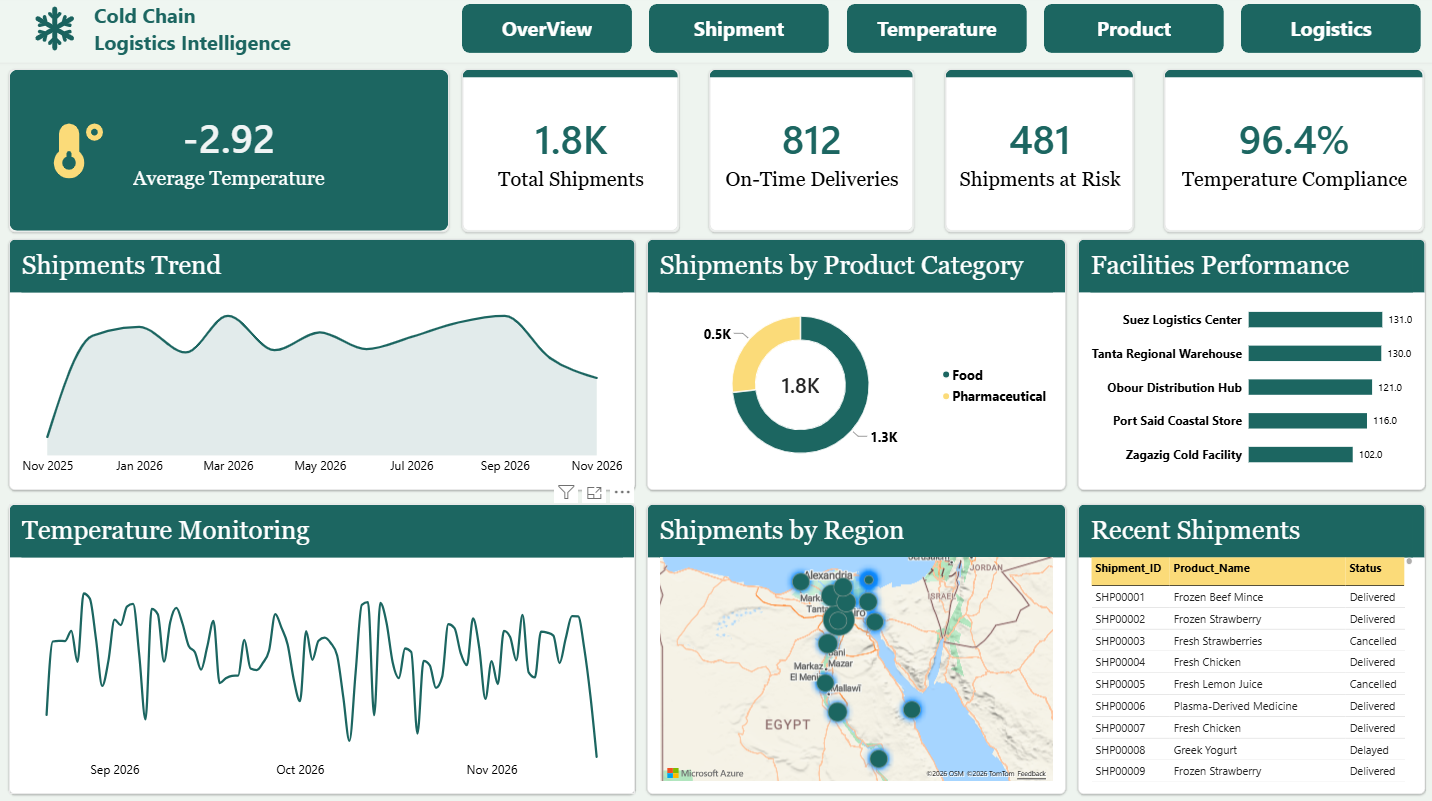

The dashboard page shown, as its layout file describes it:
{"tool":"powerbi","page":{"name":"OverView","canvas":[1920,1080],"ordinal":0},"visuals":[{"type":"cardVisual","fields":{"Data":["_Measures.On-Time Deliveries"]},"box":[951,98.4,272.7,216.8],"z":0},{"type":"cardVisual","fields":{"Data":["_Measures.Temperature Compliance"]},"box":[1556.2,98.4,345.8,216.8],"z":1000},{"type":"cardVisual","fields":{"Data":["_Measures.Shipments at Risk"]},"box":[1264.9,98.4,251.4,216.8],"z":2000},{"type":"cardVisual","fields":{"Data":["_Measures.Total Shipments"]},"box":[622.5,98.4,288.6,216.8],"z":3000},{"type":"lineChart","title":"Shipments Trend","fields":{"Category":["vw_Shipment_Overview.Shipment_Month"],"Y":["_Measures.Total Shipments"]},"box":[20,324.5,832.6,333.8],"z":4000},{"type":"donutChart","title":"Shipments by Product Category","fields":{"Category":["vw_Shipment_Overview.Product_Category"],"Y":["_Measures.Total Shipments"]},"box":[868.5,324.5,557.3,333.8],"z":5000},{"type":"clusteredBarChart","title":"Facilities Performance","fields":{"Category":["vw_Shipment_Overview.Origin_Facility"],"Y":["_Measures.Total Shipments"]},"box":[1441.8,324.5,461.5,333.8],"z":6000},{"type":"lineChart","title":"Temperature Monitoring","fields":{"Category":["vw_Temperature_Compliance.Reading_Date"],"Y":["Avg(vw_Temperature_Compliance.Temperature_C)"]},"box":[20,677,832.6,385.7],"z":7000},{"type":"cardVisual","fields":{"Data":["_Measures.Average Temperature"]},"box":[20,98.4,585.2,216.8],"z":8000},{"type":"azureMap","title":"Shipments by Region","fields":{"Category":["vw_Shipment_Overview.Destination_City"],"Size":["_Measures.Total Shipments"]},"box":[868.5,677,557.3,385.7],"z":9000},{"type":"tableEx","title":"Recent Shipments","fields":{"Values":["vw_Shipment_Overview.Shipment_ID","vw_Shipment_Overview.Product_Name","vw_Shipment_Overview.Status"]},"box":[1442,677,462,386],"z":10000},{"type":"shape","box":[0,0,1920.6,90.4],"z":11000},{"type":"image","box":[63.8,153,90.4,109.1],"z":12000},{"type":"actionButton","box":[622.5,12,226.1,65.2],"z":13000},{"type":"actionButton","box":[871.5,12,239.4,65.2],"z":14000},{"type":"actionButton","box":[1133.9,12,239.4,65.2],"z":15000},{"type":"actionButton","box":[1396.2,12,239.4,65.2],"z":16000},{"type":"actionButton","box":[1658.6,12,239.4,65.2],"z":17000},{"type":"image","box":[41.2,12,78.5,65.2],"z":18000},{"type":"textbox","box":[133,8,445.6,90.4],"z":19000}]}

Visuals, with their boxes in screenshot pixels (x1, y1, x2, y2), scaled from the page's 1920x1080 canvas onto the 1432x801 screenshot:
cardVisual - _Measures.On-Time Deliveries: {"left": 709, "top": 73, "right": 913, "bottom": 234}
cardVisual - _Measures.Temperature Compliance: {"left": 1161, "top": 73, "right": 1419, "bottom": 234}
cardVisual - _Measures.Shipments at Risk: {"left": 943, "top": 73, "right": 1131, "bottom": 234}
cardVisual - _Measures.Total Shipments: {"left": 464, "top": 73, "right": 680, "bottom": 234}
"Shipments Trend" lineChart: {"left": 15, "top": 241, "right": 636, "bottom": 488}
"Shipments by Product Category" donutChart: {"left": 648, "top": 241, "right": 1063, "bottom": 488}
"Facilities Performance" clusteredBarChart: {"left": 1075, "top": 241, "right": 1420, "bottom": 488}
"Temperature Monitoring" lineChart: {"left": 15, "top": 502, "right": 636, "bottom": 788}
cardVisual - _Measures.Average Temperature: {"left": 15, "top": 73, "right": 451, "bottom": 234}
"Shipments by Region" azureMap: {"left": 648, "top": 502, "right": 1063, "bottom": 788}
"Recent Shipments" tableEx: {"left": 1075, "top": 502, "right": 1420, "bottom": 788}
shape: {"left": 0, "top": 0, "right": 1431, "bottom": 67}
image: {"left": 48, "top": 113, "right": 115, "bottom": 194}
actionButton: {"left": 464, "top": 9, "right": 633, "bottom": 57}
actionButton: {"left": 650, "top": 9, "right": 829, "bottom": 57}
actionButton: {"left": 846, "top": 9, "right": 1024, "bottom": 57}
actionButton: {"left": 1041, "top": 9, "right": 1220, "bottom": 57}
actionButton: {"left": 1237, "top": 9, "right": 1416, "bottom": 57}
image: {"left": 31, "top": 9, "right": 89, "bottom": 57}
textbox: {"left": 99, "top": 6, "right": 432, "bottom": 73}
